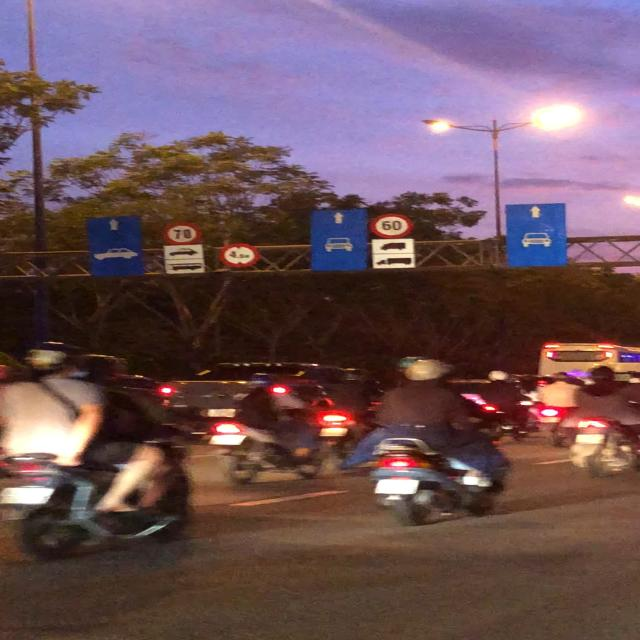Bien bao han che chieu cao: (216, 243, 261, 272)
Bien bao toc do toi da cho phep: (368, 212, 411, 241), (161, 221, 205, 246)
